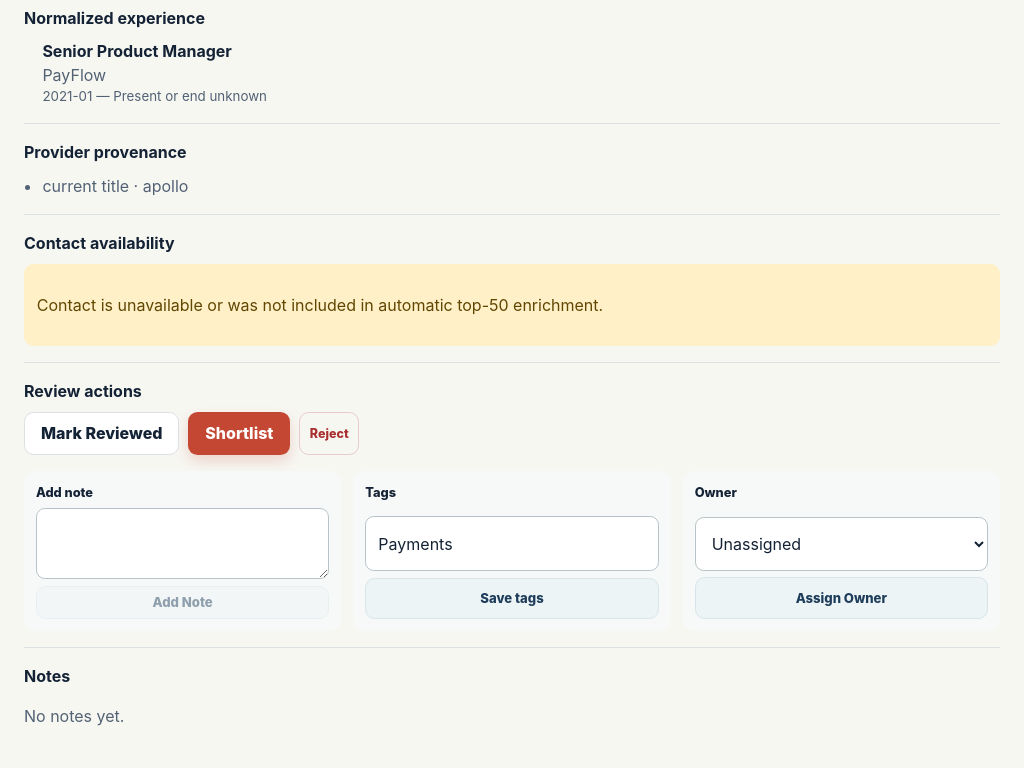
Test: CandidateDetail › reuses one intent key when a safely rolled-back stage change is retried
(page scrolled)
Click the button "Shortlist".
click(239, 434)  # box [188, 412, 290, 455]
(page scrolled)
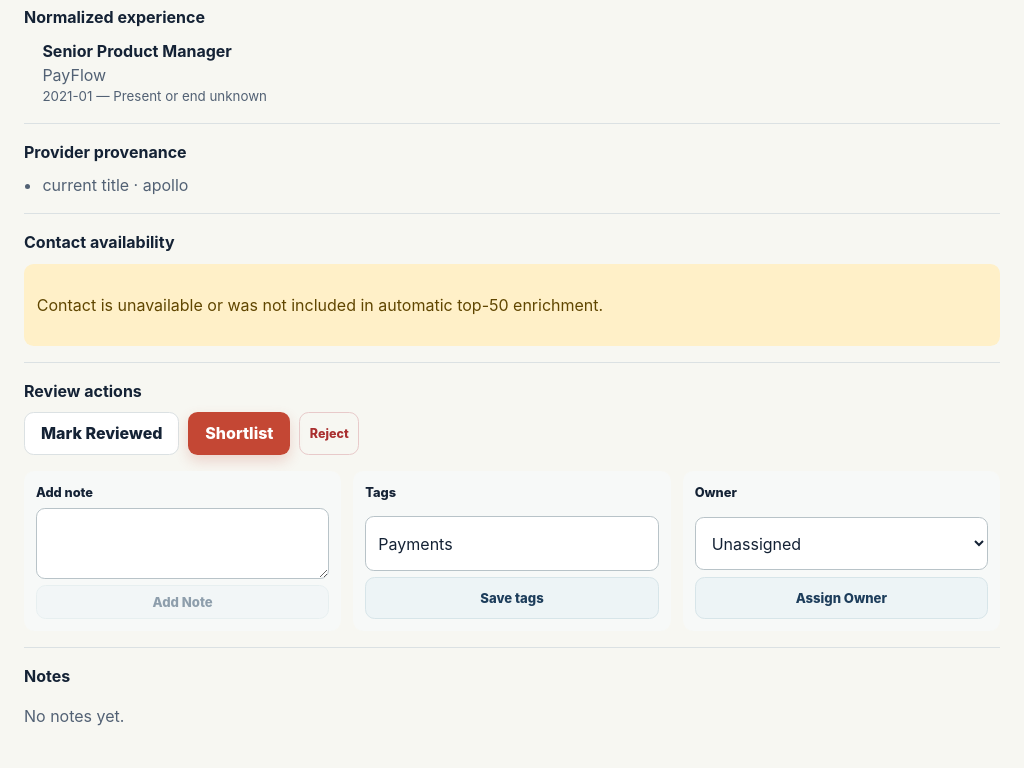
Click the button "Shortlist".
click(239, 433)  # box [188, 412, 290, 455]
(page scrolled)
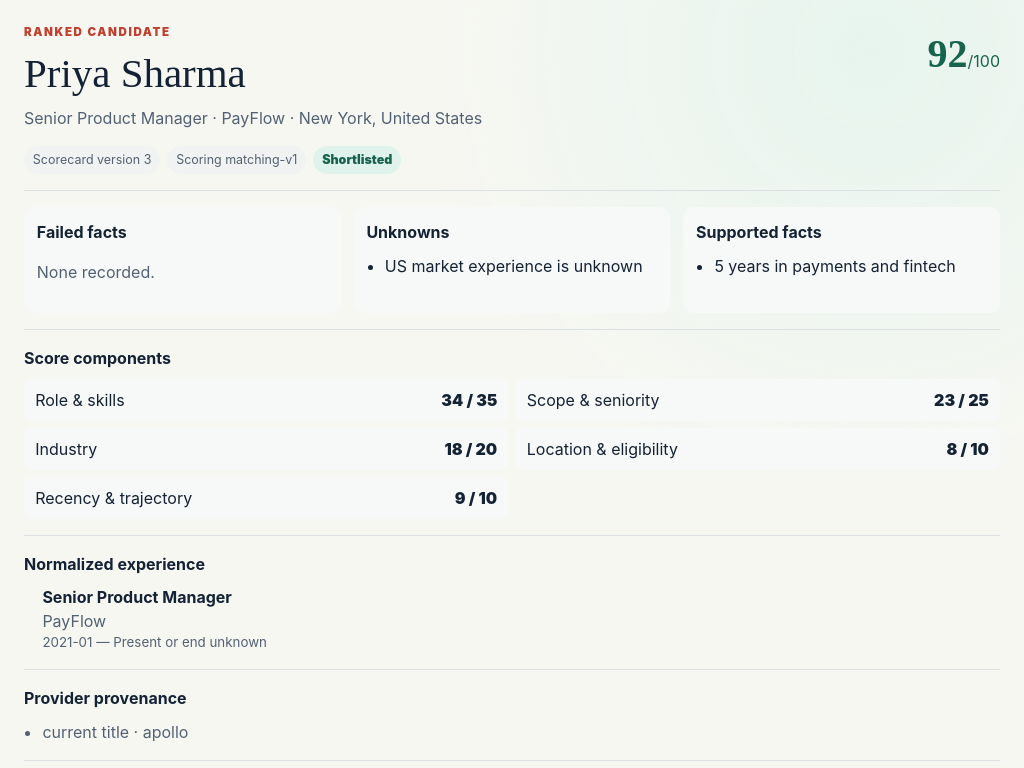
Now the text "Shortlisted" is shown, box [313, 146, 401, 174]
